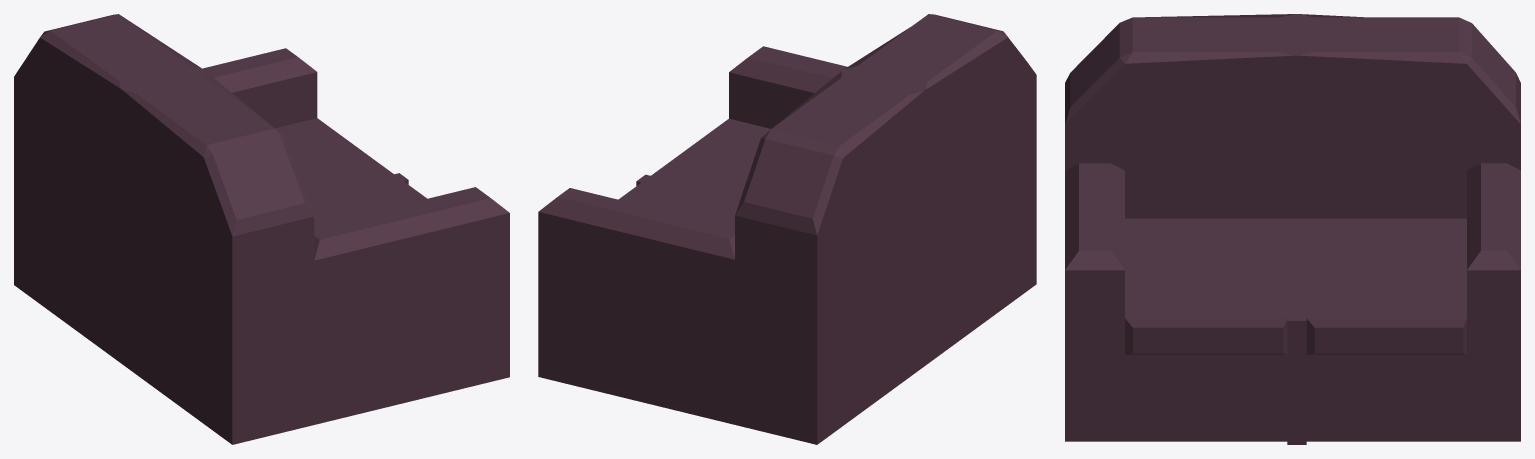
The model's file is couch2.fbx.
3 renders of one model, left to right at view 1: azimuth 30°, elevation 25°; view 2: azimuth 150°, elevation 25°; view 3: azimuth 270°, elevation 25°, orthographic. The views are drawn at different scales.
Visible parts, largest first — view 1: Cube; view 2: Cube; view 3: Cube.
Part boxes in pixels (bbox=[...]): Cube: bbox=[14, 14, 509, 444]; Cube: bbox=[538, 14, 1036, 444]; Cube: bbox=[1065, 14, 1520, 444].
Size of the model in its own units: 133 by 123 by 177.
